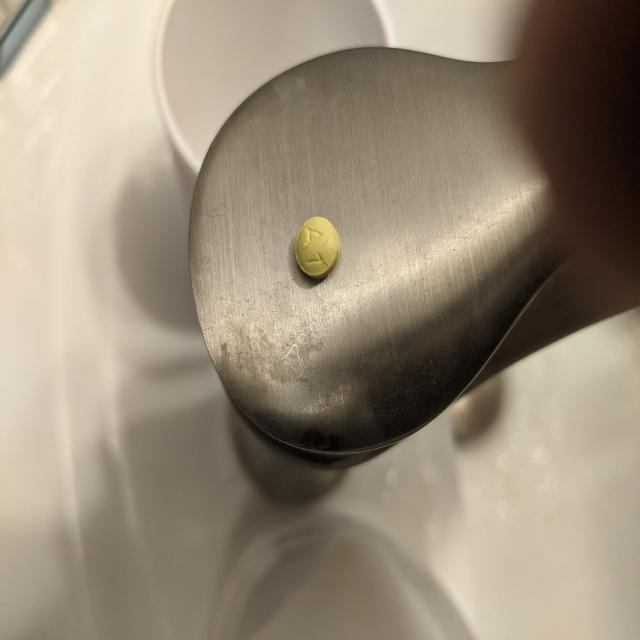non-organic waste: (294, 216, 341, 279)
